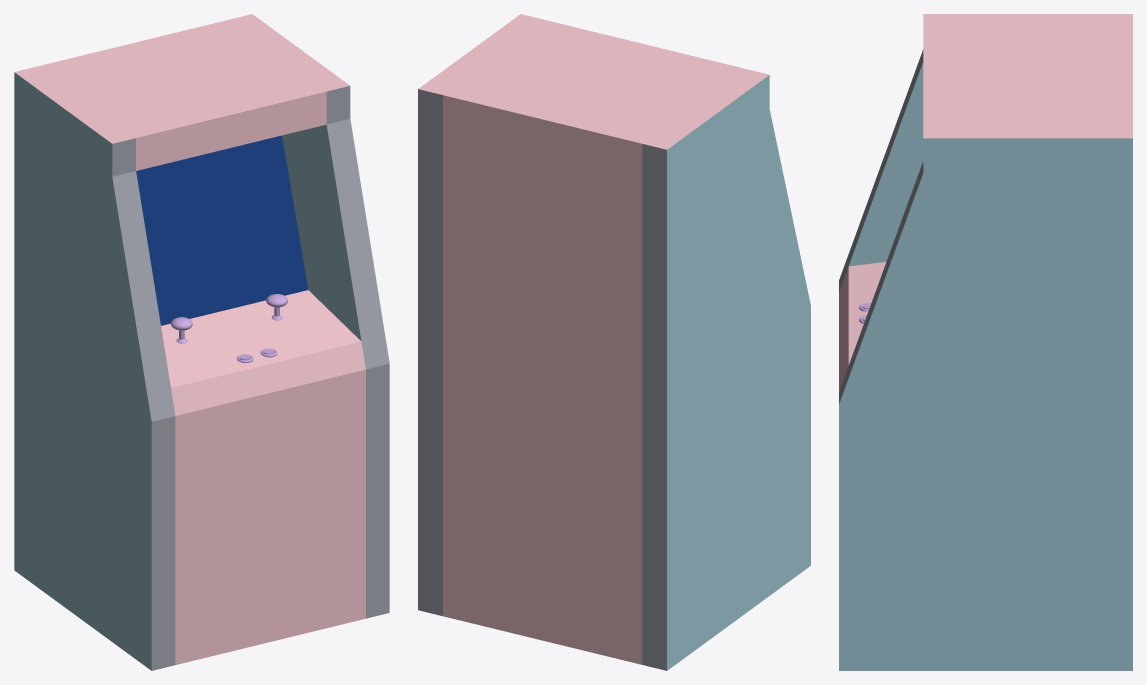
The model's file is arcade.glb.
The picture shows the model from 3 angles, left to right: view 1: azimuth 30°, elevation 25°; view 2: azimuth 150°, elevation 25°; view 3: azimuth 270°, elevation 25°; orthographic projection. The views are drawn at different scales.
Parts seen in each view (by area): view 1: Machine; view 2: Machine; view 3: Machine.
Boxes of the visible parts, left/top/right/bottom form: Machine: left=14, top=14, right=389, bottom=670; Machine: left=418, top=14, right=810, bottom=670; Machine: left=839, top=14, right=1132, bottom=670.
Bounding box in the file's own units: 10 × 20 × 10.
